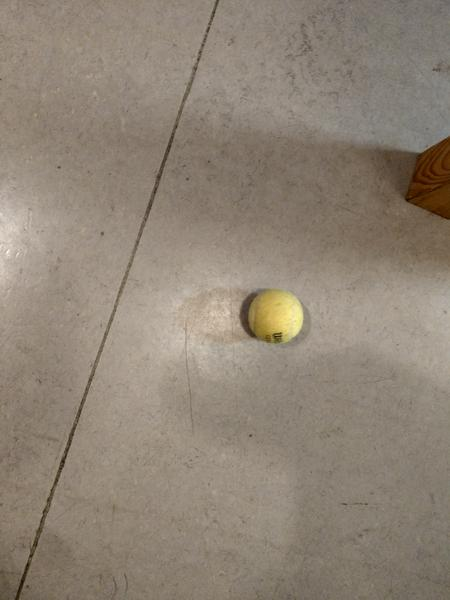Tennisball: (242, 285, 307, 346)
